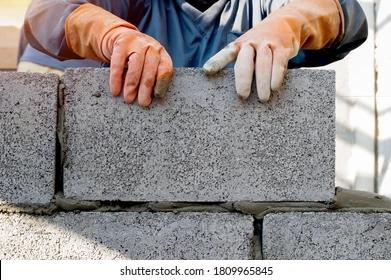brick: (62, 67, 335, 199), (1, 212, 253, 260), (1, 74, 56, 204), (264, 212, 389, 260)
